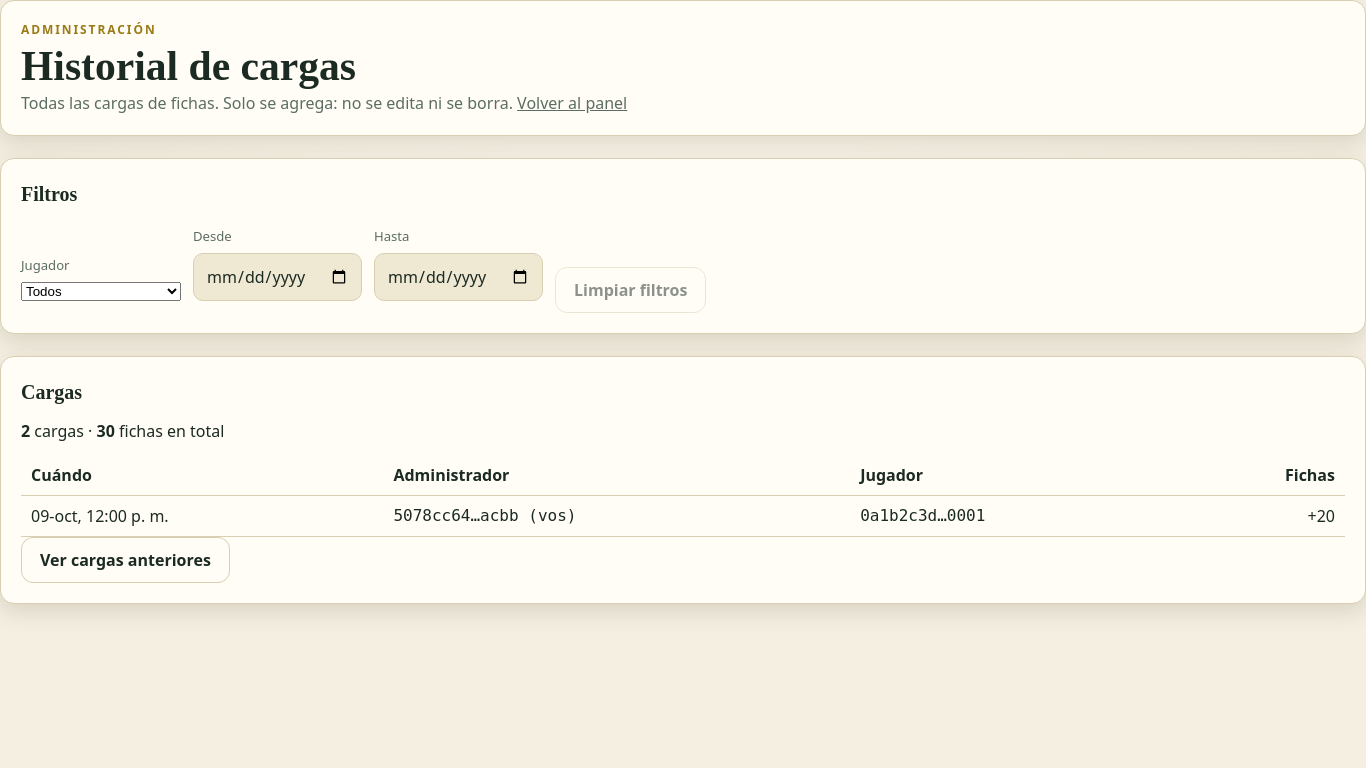
Scenario: AdminCredits › loads older loads with the cursor and keeps the total
This screenshot has width=1366, height=768.
Step 1. Click the button "Ver cargas anteriores" → {"x": 125, "y": 560}, box [21, 536, 230, 582]
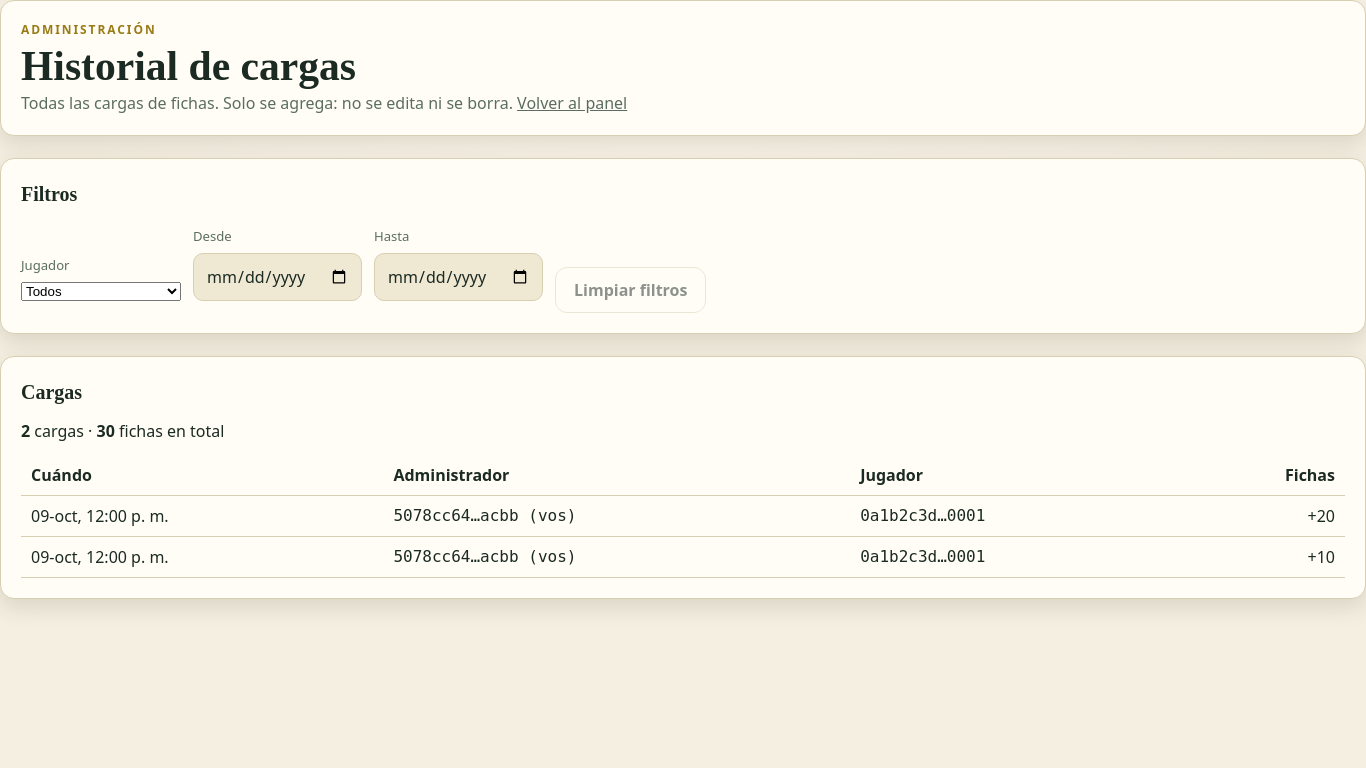
Check: the element with test id "credit-total" reads "2 cargas · 30 fichas en total", box [21, 420, 224, 442]
Check: the number of rows is 3, box [21, 454, 1345, 495]; [21, 495, 1345, 536]; [21, 536, 1345, 577]
